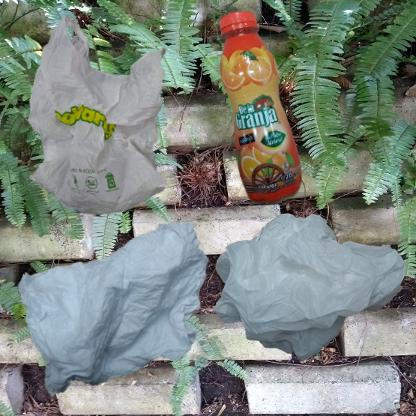bolsa: (10, 10, 204, 239), (213, 213, 406, 361)
botella: (213, 10, 308, 209)
papel: (10, 213, 249, 413)
